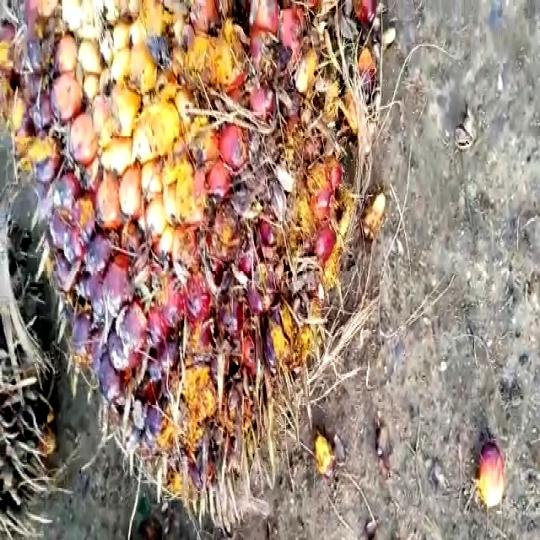masak: (12, 0, 416, 491)
